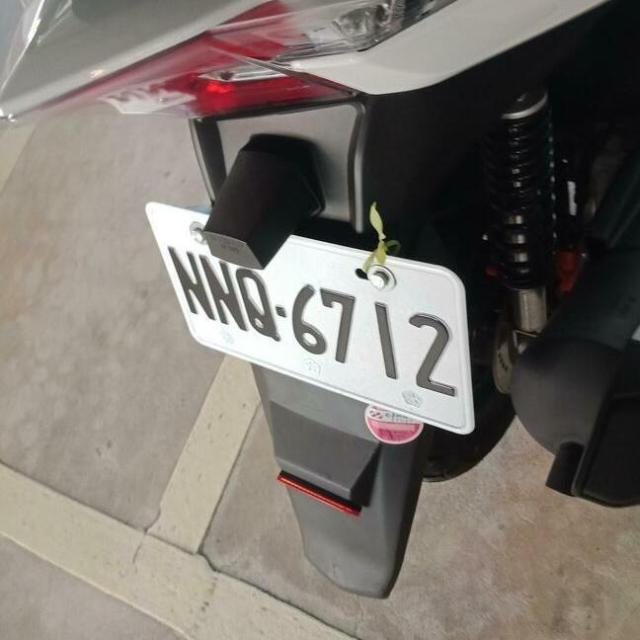W: (142, 188, 490, 463)
